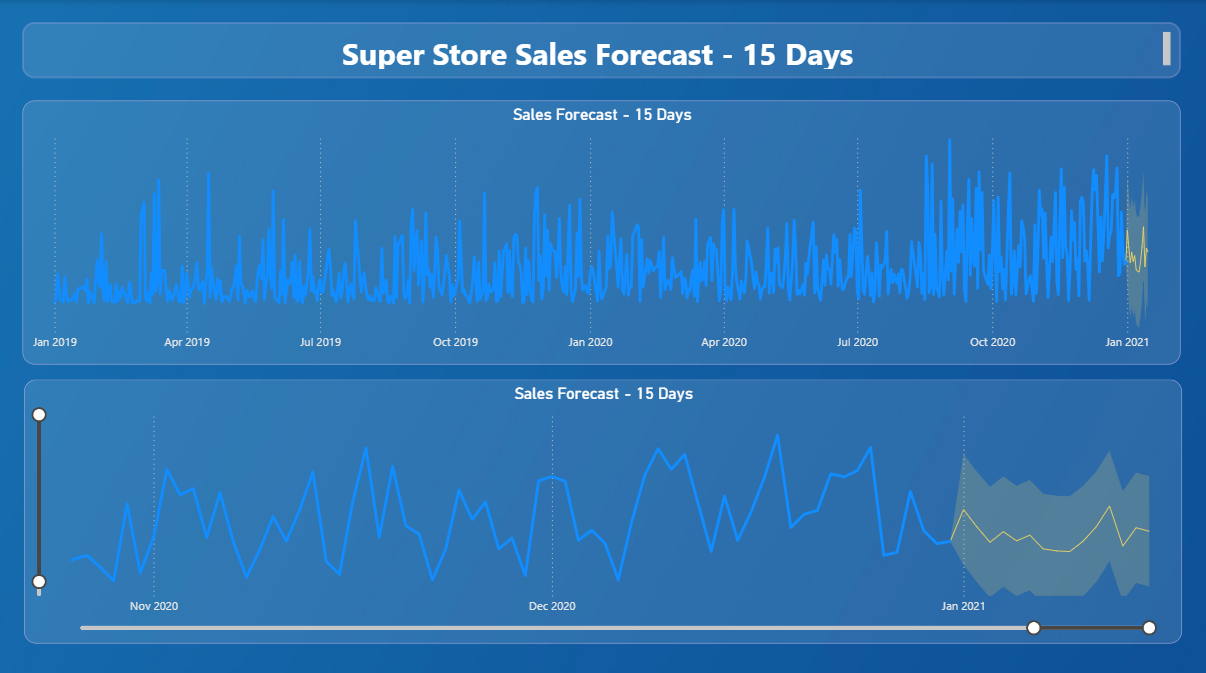

Layout of this report page (visuals, bound fields, positions):
{"tool":"powerbi","page":{"name":"Page 2","canvas":[1280,720],"ordinal":1},"visuals":[{"type":"lineChart","title":"Sales Forecast - 15 Days","fields":{"Y":["Sum(SuperStore_Sales_Dataset.Sales)"],"Category":["SuperStore_Sales_Dataset.Order Date"]},"box":[25.4,402.4,1228,279.9],"z":0},{"type":"lineChart","title":"Sales Forecast - 15 Days","fields":{"Y":["Sum(SuperStore_Sales_Dataset.Sales)"],"Category":["SuperStore_Sales_Dataset.Order Date"]},"box":[24.3,107,1228,279.9],"z":1000},{"type":"textbox","box":[23.9,23.9,1228,58.9],"z":2000}]}

Visuals, with their boxes in screenshot pixels (x1, y1, x2, y2), scaled from the page's 1280x720 canvas onto the 1206x673 screenshot:
"Sales Forecast - 15 Days" lineChart: <bbox>24, 376, 1181, 638</bbox>
"Sales Forecast - 15 Days" lineChart: <bbox>23, 100, 1180, 362</bbox>
textbox: <bbox>23, 22, 1180, 77</bbox>
